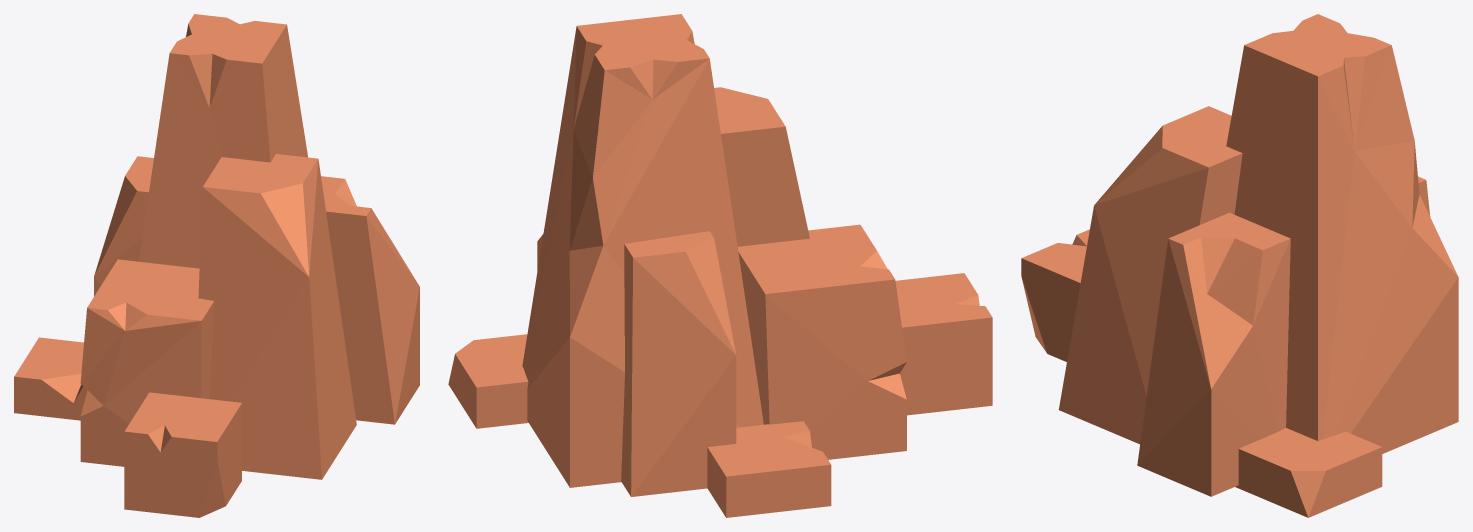
Rendered from rock02.fbx.
The picture shows the model from 3 angles, left to right: view 1: azimuth 30°, elevation 25°; view 2: azimuth 150°, elevation 25°; view 3: azimuth 270°, elevation 25°; orthographic projection. The views are drawn at different scales.
Visible parts, largest first — view 1: rock_02; view 2: rock_02; view 3: rock_02.
Boxes of the visible parts, x1,y1,x2,y2 form: rock_02: (14, 14, 419, 517); rock_02: (448, 14, 992, 517); rock_02: (1021, 14, 1458, 517).
Bounding box in the file's own units: 3.61 × 3.14 × 3.28.
Materials: 1 (1 with a texture image).
